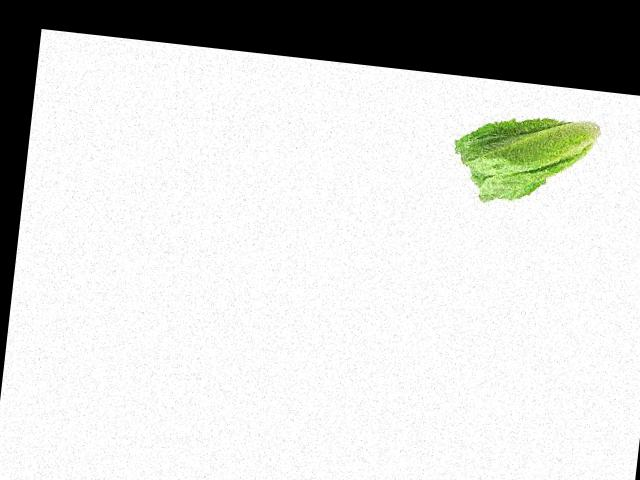lettuce: (425, 74, 592, 221)
